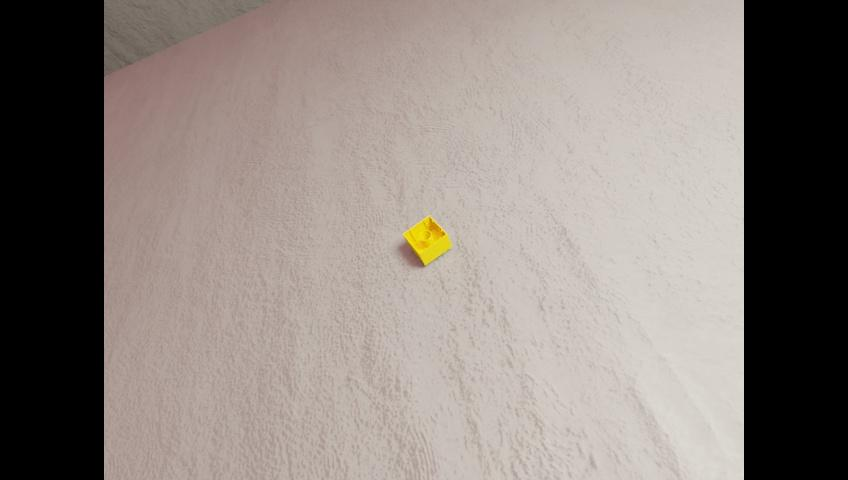2x2_yellow: (402, 215, 451, 264)
